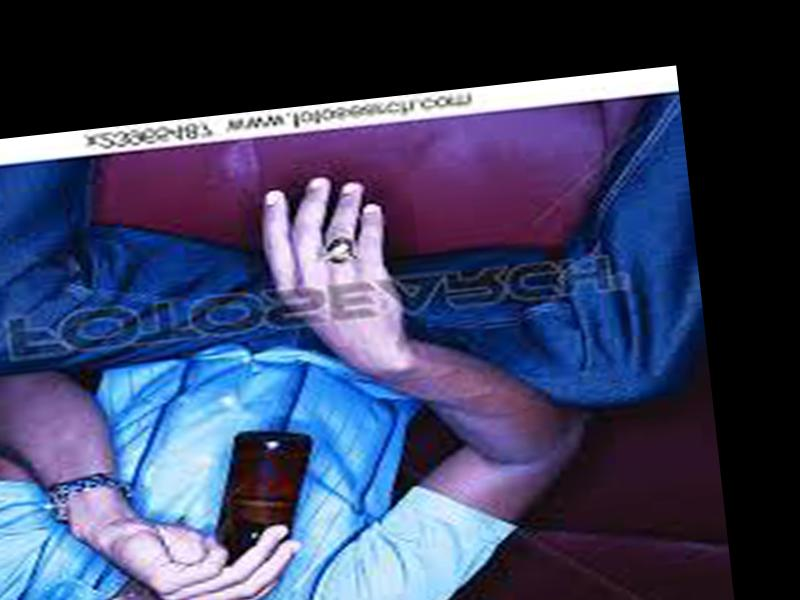Beer: (197, 425, 335, 600)
